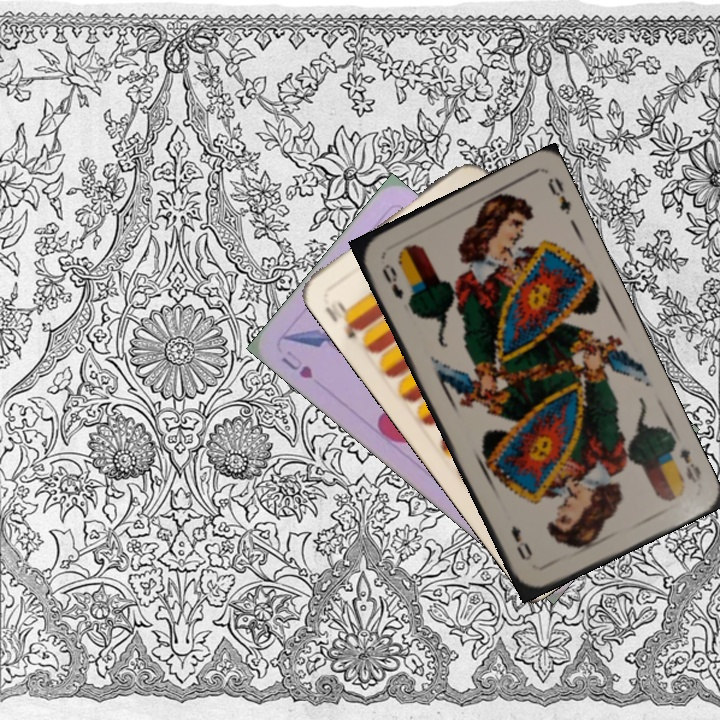E10: (333, 296, 366, 341)
EO: (378, 259, 406, 302), (675, 445, 704, 486)
HU: (277, 346, 316, 382)
